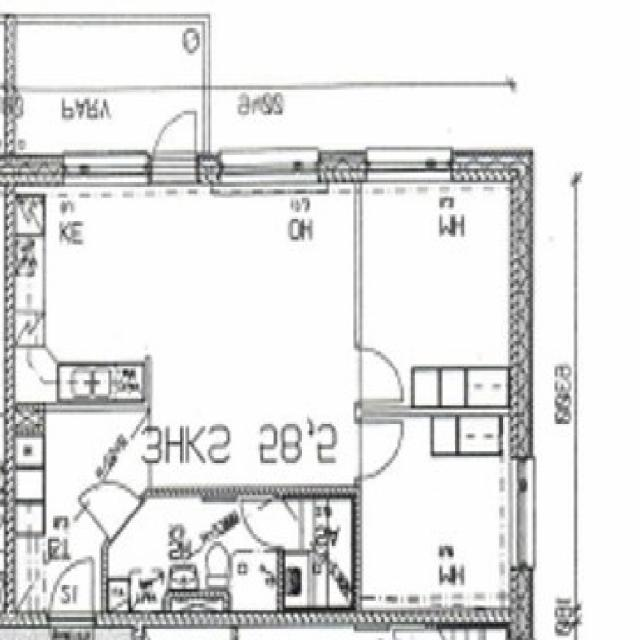door: (76, 455, 143, 542), (154, 96, 197, 181), (51, 554, 94, 623), (354, 346, 405, 402), (355, 422, 404, 477), (243, 500, 284, 547)
